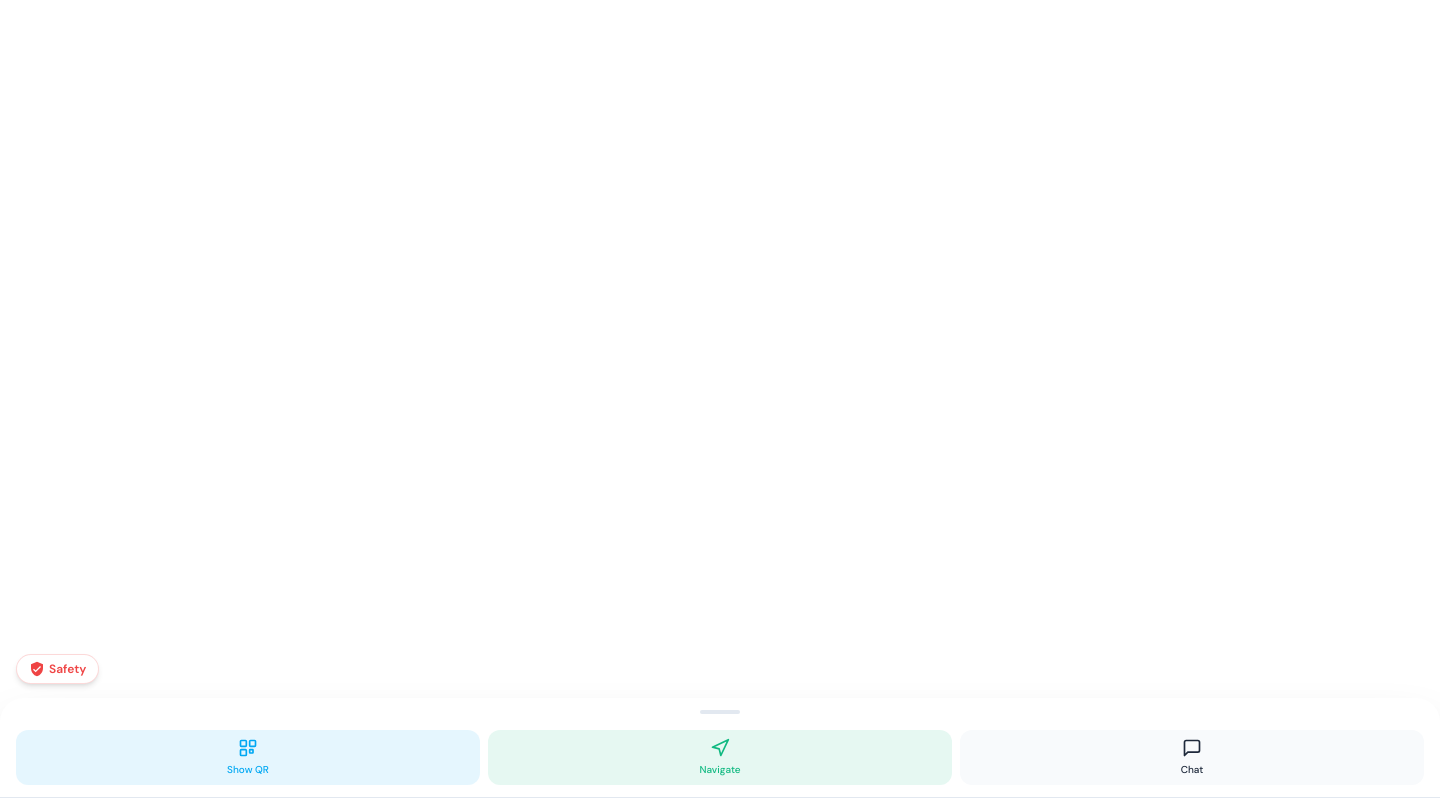
Test: JourneyDrawer › shows rider info for driver view when expanded
Note: Click drag handle to expand
Click the element with class "cursor-grab". click: [720, 712]
box: [700,710,740,714]
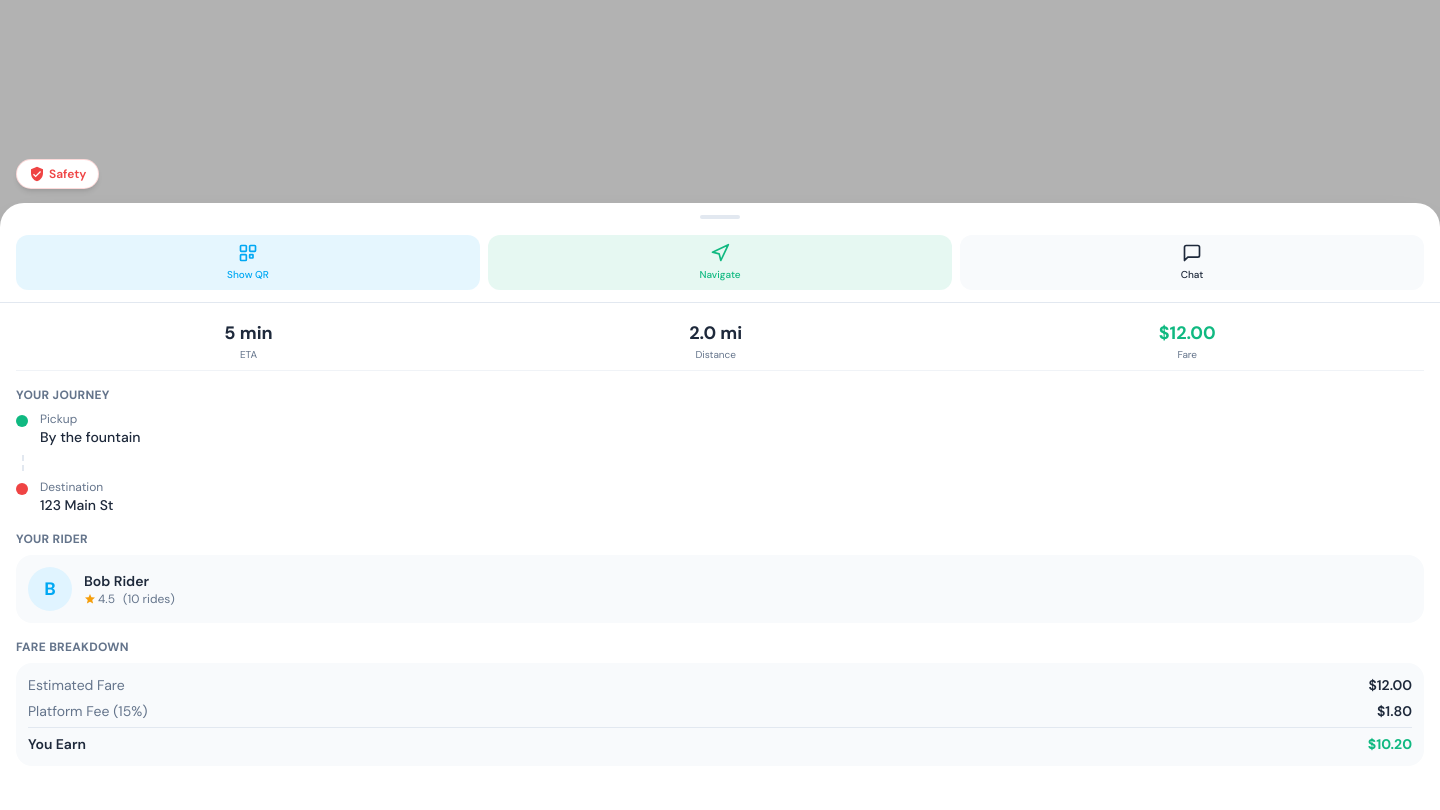
Expected: the heading "Your Rider" is shown, [16,530,88,546]
Expected: the text "Bob Rider" is shown, [84,572,149,590]
